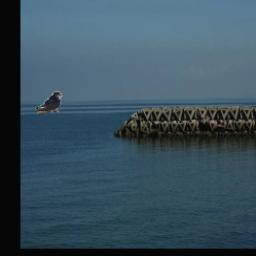Swallow: (35, 91, 62, 114)
